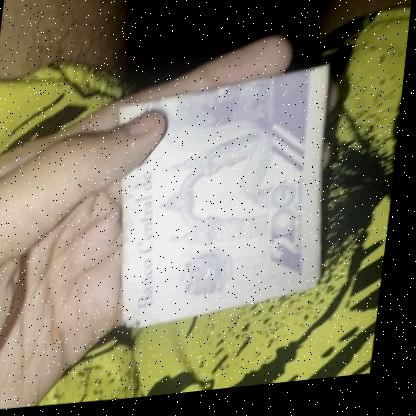ten-back-vef: (99, 64, 347, 338)
